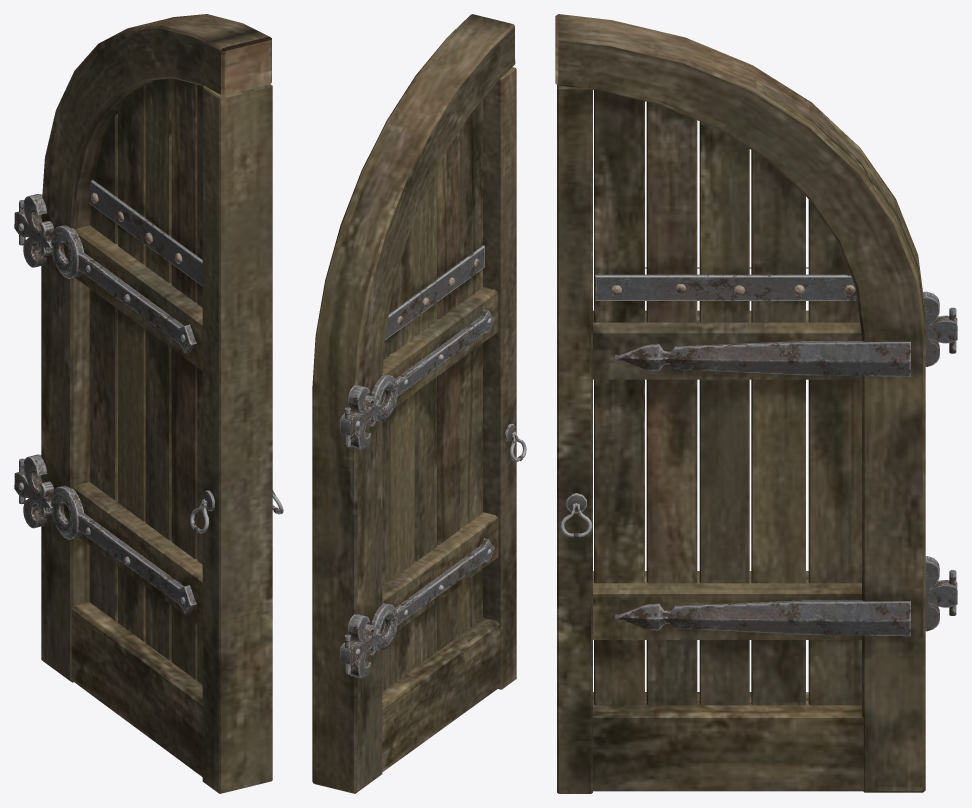
The model's file is SM_DoorWay_Large_Door_Left.glb.
3 renders of one model, left to right at view 1: azimuth 30°, elevation 25°; view 2: azimuth 150°, elevation 25°; view 3: azimuth 270°, elevation 25°, orthographic. The views are drawn at different scales.
Visible parts, largest first — view 1: SM_DoorWay_Large_Door_Left; view 2: SM_DoorWay_Large_Door_Left; view 3: SM_DoorWay_Large_Door_Left.
Part boxes in pixels (bbox=[...]): SM_DoorWay_Large_Door_Left: bbox=[14, 14, 283, 793]; SM_DoorWay_Large_Door_Left: bbox=[312, 14, 526, 793]; SM_DoorWay_Large_Door_Left: bbox=[555, 14, 957, 793].
Size of the model in its own units: 0.324 by 2.76 by 1.33.
3 materials, 3 textured.
